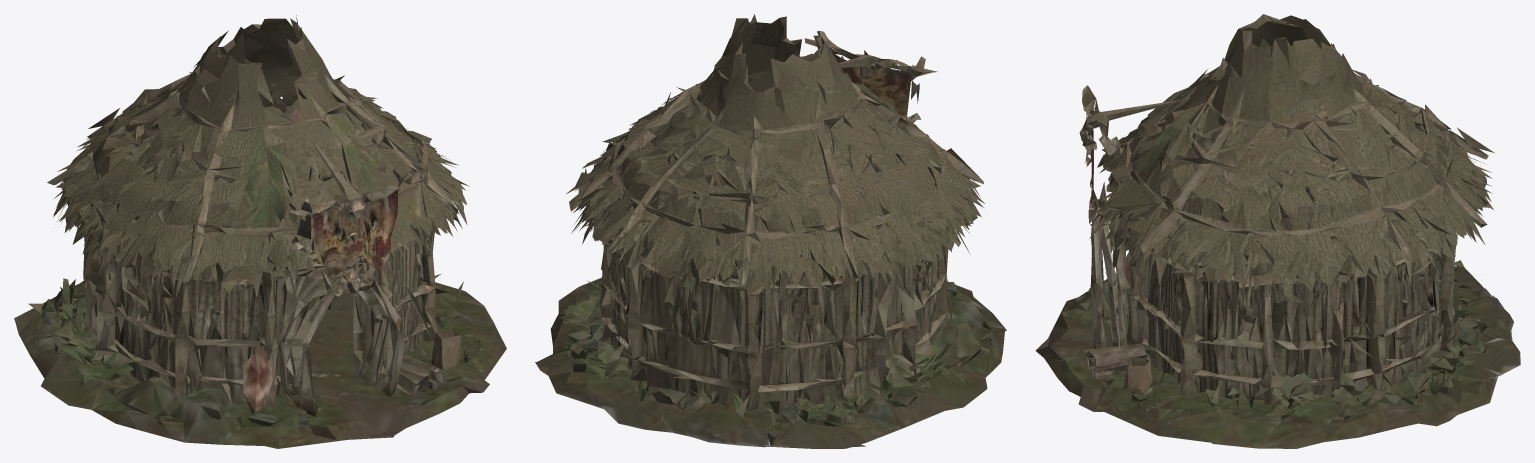
Rendered from troll_hut.glb.
3 renders of one model, left to right at view 1: azimuth 30°, elevation 25°; view 2: azimuth 150°, elevation 25°; view 3: azimuth 270°, elevation 25°, orthographic.
Parts seen in each view (by area): view 1: Mesh_0; view 2: Mesh_0; view 3: Mesh_0.
Boxes of the visible parts, <box> form: Mesh_0: <box>14,15,506,448</box>; Mesh_0: <box>535,14,1006,448</box>; Mesh_0: <box>1035,14,1520,448</box>.
Bounding box in the file's own units: 5.96 × 4.5 × 5.98.
Materials: 1 (1 with a texture image).
